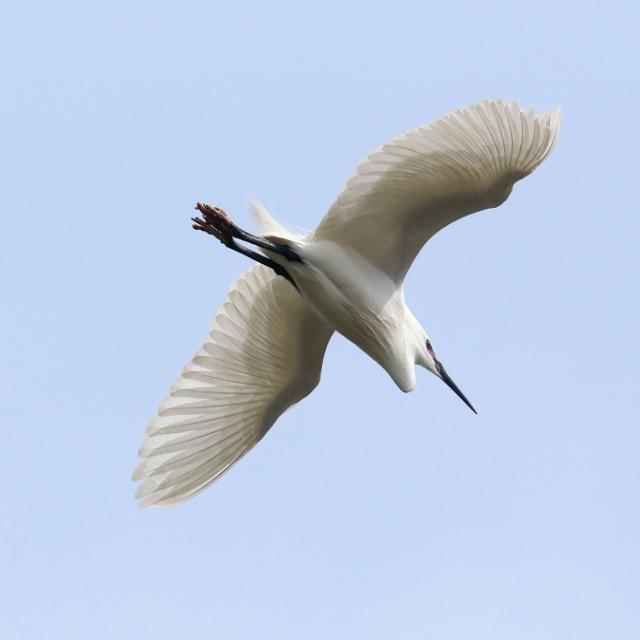bird: (121, 74, 585, 517)
